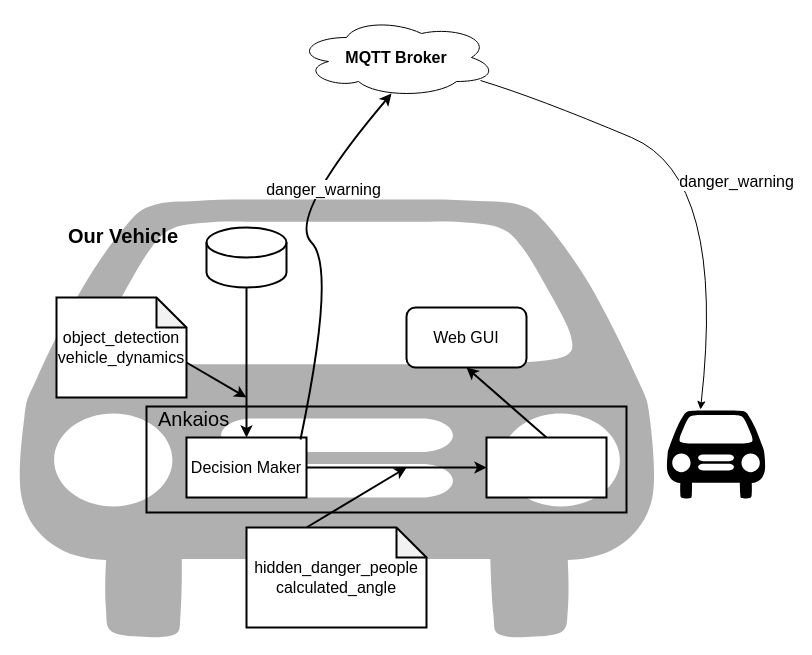
This 812x655 diagram has some shape labels left out. Here are the shapes that lost their labels. From the top down, the centre of each, then its label:
At point (246, 257): "Camera".
At point (546, 467): "Web ivi".
